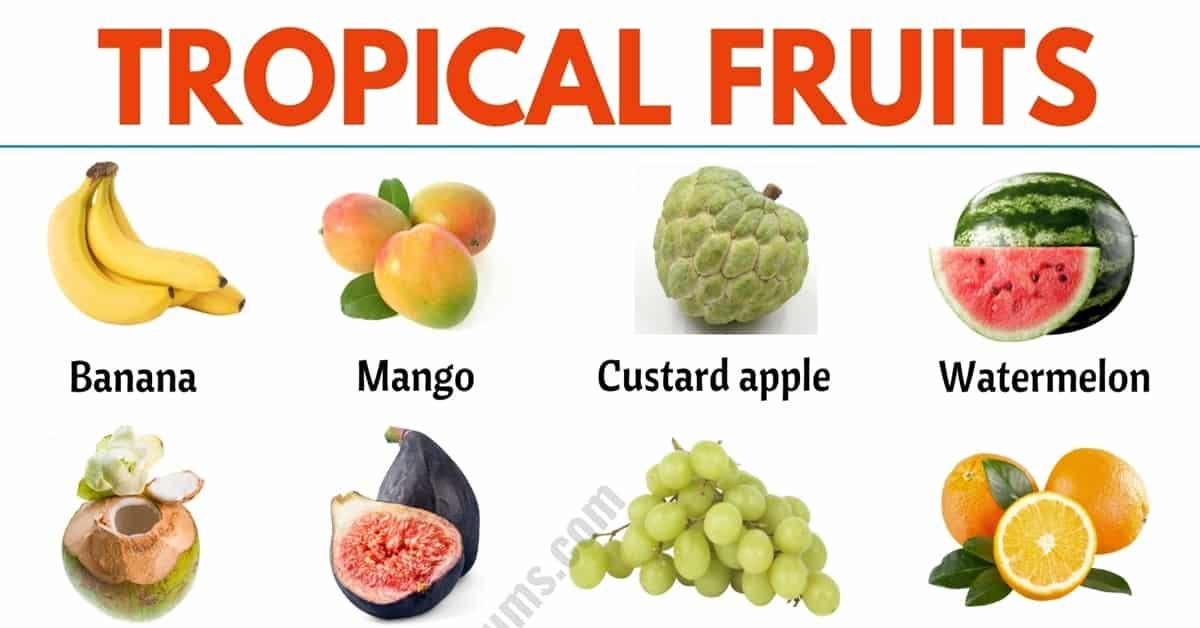chuoi: (44, 155, 252, 327)
xoai: (369, 224, 484, 331)
